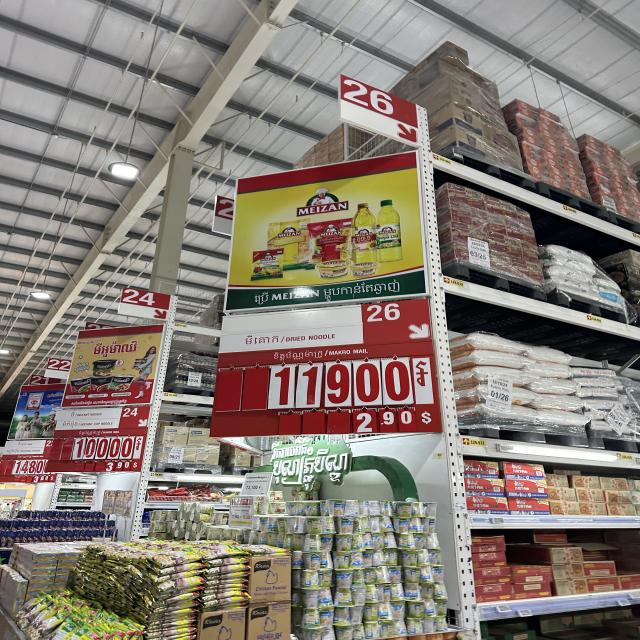Yolov11_80vkh: (230, 329, 284, 348), (268, 348, 322, 361)
